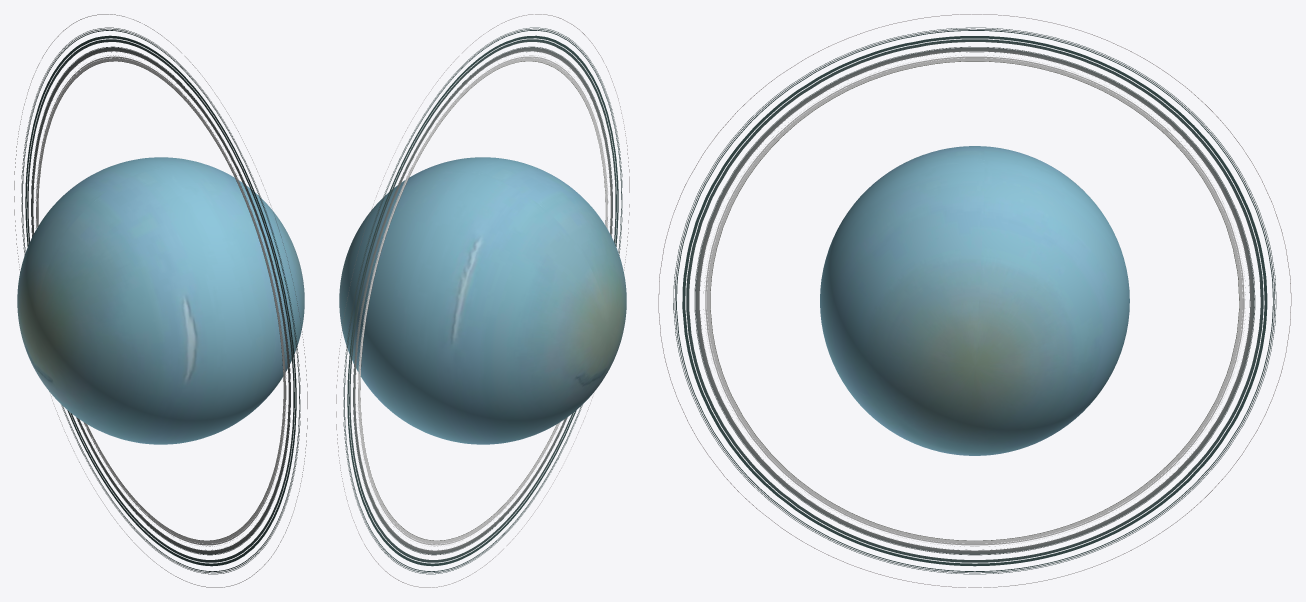
Rendered from uranus.glb.
3 views of the same model, side by side, from view 1: azimuth 30°, elevation 25°; view 2: azimuth 150°, elevation 25°; view 3: azimuth 270°, elevation 25° (orthographic). The views are drawn at different scales.
Parts seen in each view (by area): view 1: pSphere1.1, pPlane1.2; view 2: pSphere1.1, pPlane1.2; view 3: pSphere1.1, pPlane1.2.
Boxes of the visible parts, x1=… form: pSphere1.1: x1=17, y1=157, x2=304, y2=444; pPlane1.2: x1=14, y1=14, x2=307, y2=587; pSphere1.1: x1=339, y1=157, x2=626, y2=444; pPlane1.2: x1=336, y1=14, x2=629, y2=587; pSphere1.1: x1=820, y1=146, x2=1129, y2=455; pPlane1.2: x1=658, y1=14, x2=1291, y2=587.
Bounding box in the file's own units: 0.2 × 0.4086 × 0.4084.
Materials: 2 (2 with a texture image).
